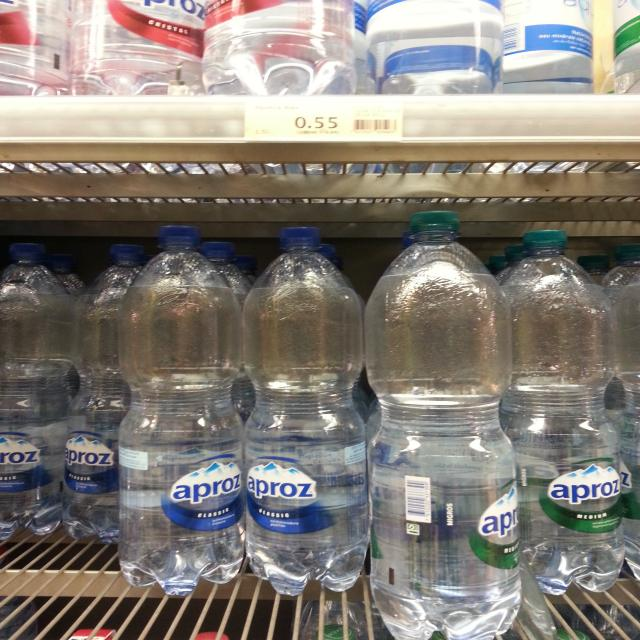Water: (363, 207, 523, 640), (116, 224, 246, 594), (246, 227, 371, 597), (506, 228, 630, 597), (66, 241, 142, 539), (2, 239, 66, 544), (68, 0, 205, 98)
